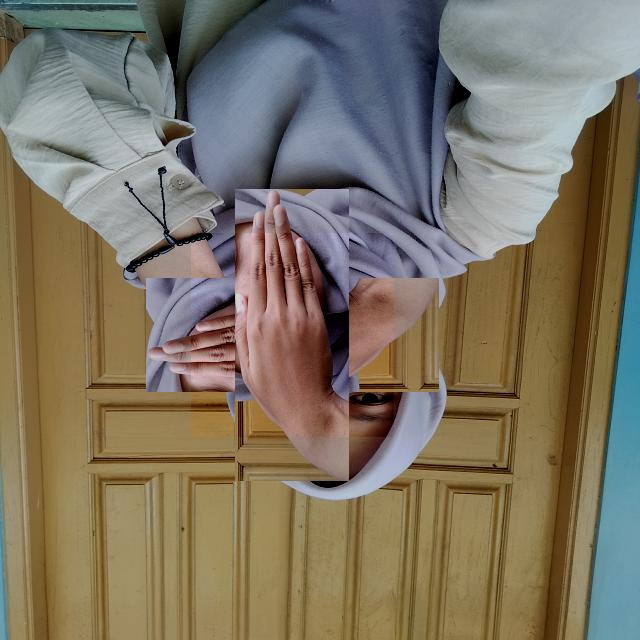buruk: (191, 233, 394, 437)
